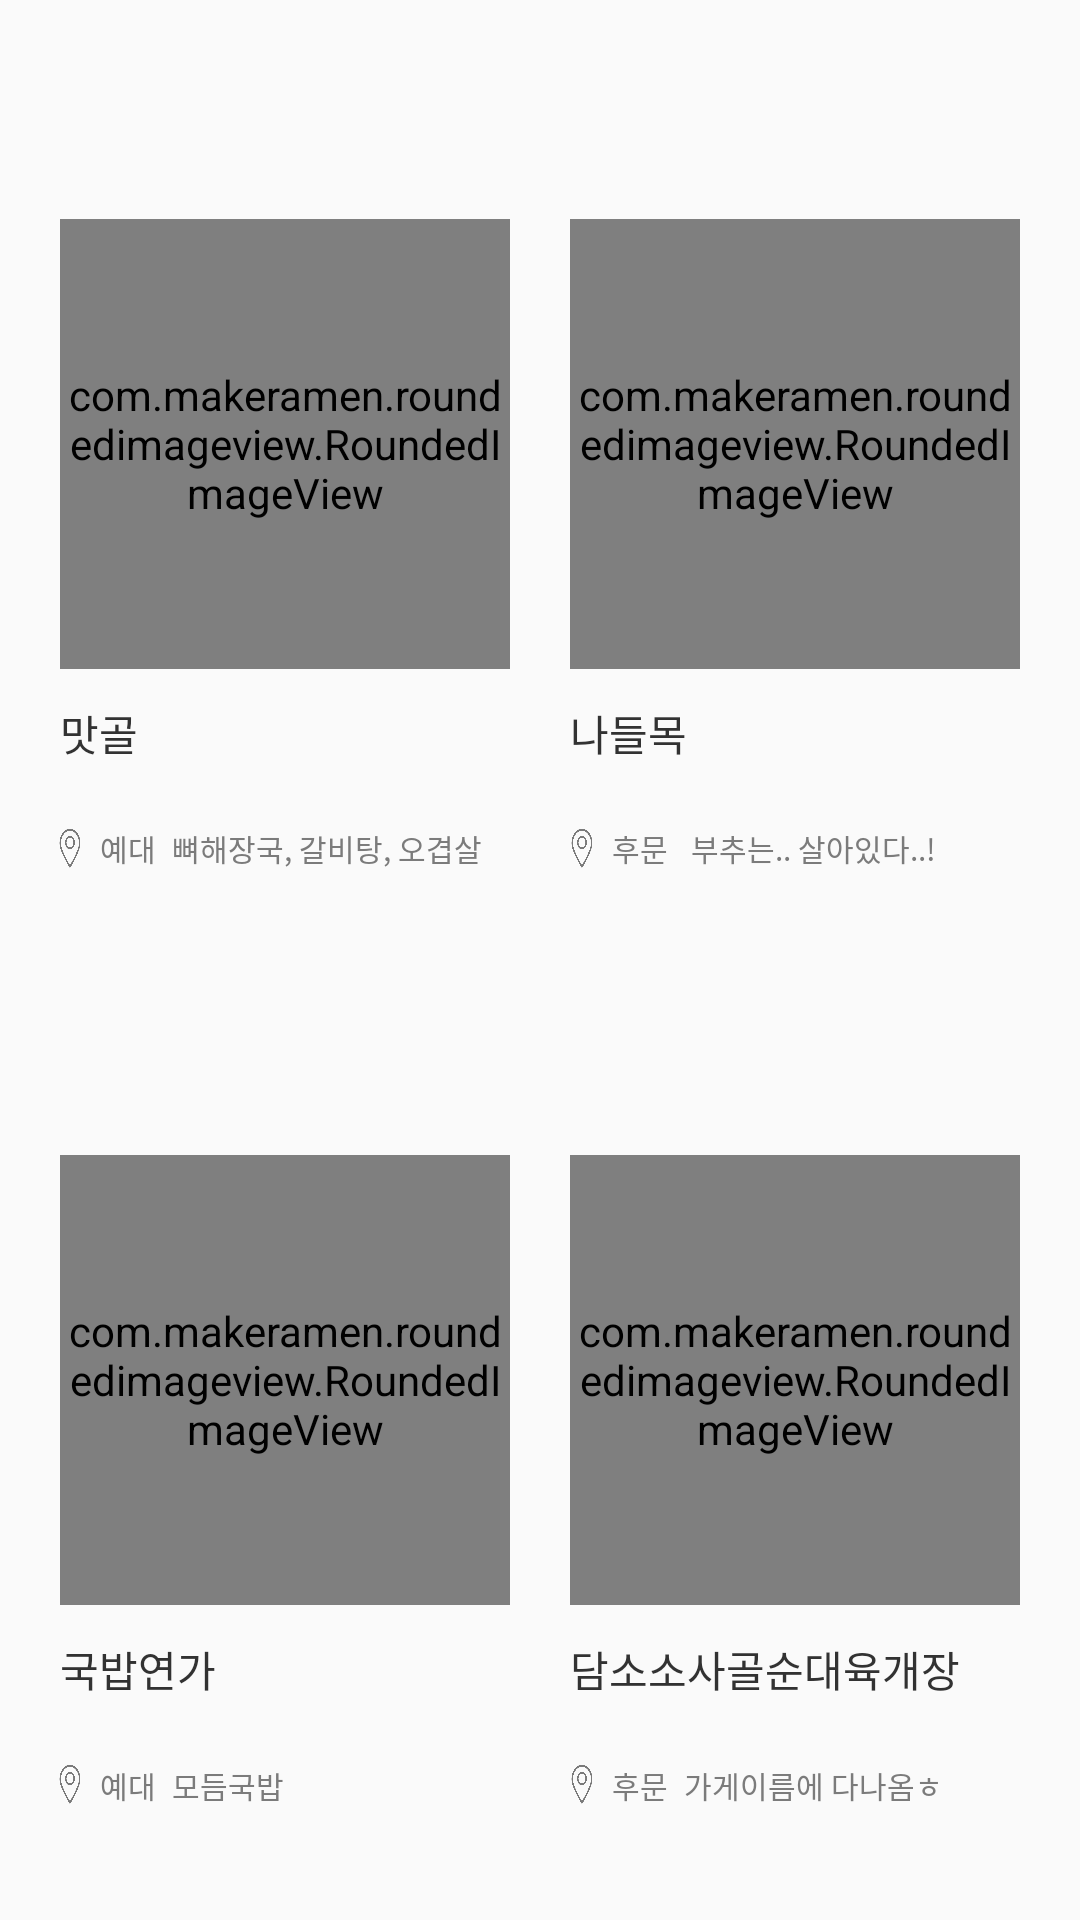

Icons on this 1080x1920 Android screen, each with its box as {"x1": x1, "y1": y1, "x2": x2, "y2": y2}:
location: {"x1": 59, "y1": 829, "x2": 80, "y2": 868}, {"x1": 571, "y1": 829, "x2": 592, "y2": 868}, {"x1": 59, "y1": 1765, "x2": 80, "y2": 1804}, {"x1": 571, "y1": 1765, "x2": 592, "y2": 1804}
